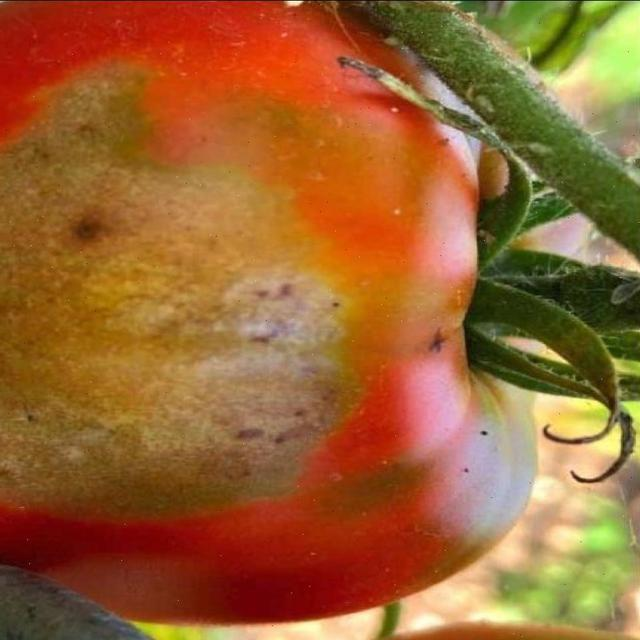Sunscald Fruit: (0, 48, 271, 347)
